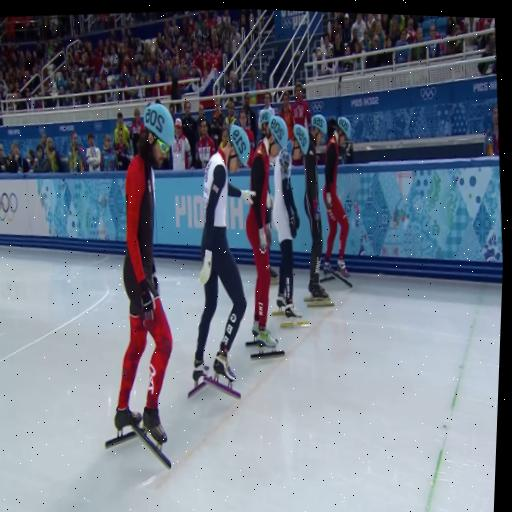Skater: (106, 104, 173, 467), (189, 126, 253, 398), (245, 116, 287, 354), (271, 147, 307, 327), (299, 115, 332, 305), (322, 117, 351, 286)
